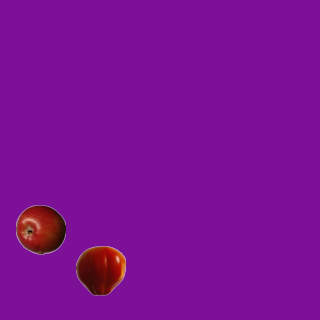Apple Braeburn: (15, 204, 65, 254)
Tomato 1: (75, 245, 125, 295)
